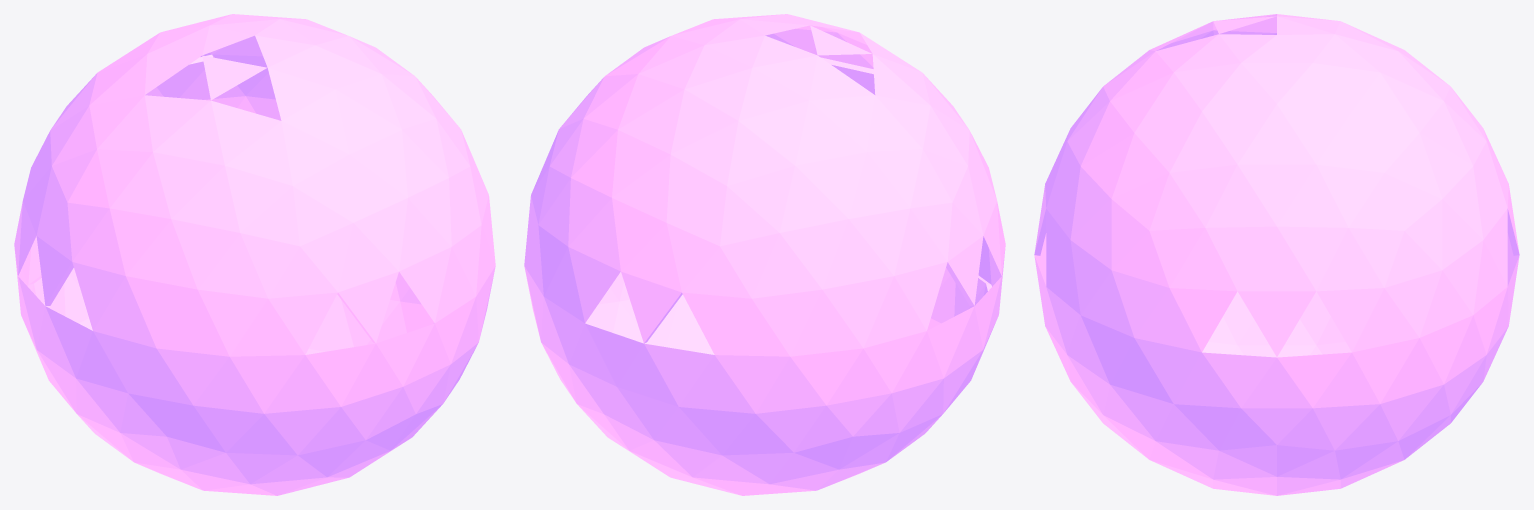
Rendered from Undead_Bannschild.fbx.
3 renders of one model, left to right at view 1: azimuth 30°, elevation 25°; view 2: azimuth 150°, elevation 25°; view 3: azimuth 270°, elevation 25°, orthographic.
Visible parts, largest first — view 1: Ward_Shell, Ward_Shard_4, Ward_Shard_7, Ward_Shard_1, Ward_Shard_3, Ward_Shard_6, Ward_Shard_5; view 2: Ward_Shell, Ward_Shard_3, Ward_Shard_5, Ward_Shard_1, Ward_Shard_4, Ward_Shard_8, Ward_Shard_7; view 3: Ward_Shell, Ward_Shard_2, Ward_Shard_6, Ward_Shard_8, Ward_Shard_3, Ward_Shard_4.
Part boxes in pixels (bbox=[...]): Ward_Shell: bbox=[14, 14, 495, 495]; Ward_Shard_4: bbox=[301, 198, 407, 343]; Ward_Shard_7: bbox=[128, 393, 263, 469]; Ward_Shard_1: bbox=[36, 166, 109, 305]; Ward_Shard_3: bbox=[145, 54, 213, 97]; Ward_Shard_6: bbox=[443, 342, 478, 403]; Ward_Shard_5: bbox=[28, 275, 65, 316]; Ward_Shell: bbox=[524, 14, 1005, 495]; Ward_Shard_3: bbox=[612, 198, 719, 343]; Ward_Shard_5: bbox=[756, 393, 891, 469]; Ward_Shard_1: bbox=[910, 166, 983, 305]; Ward_Shard_4: bbox=[821, 57, 875, 94]; Ward_Shard_8: bbox=[541, 342, 576, 403]; Ward_Shard_7: bbox=[954, 275, 991, 316]; Ward_Shell: bbox=[1034, 14, 1519, 495]; Ward_Shard_2: bbox=[1205, 226, 1348, 356]; Ward_Shard_6: bbox=[1067, 355, 1173, 459]; Ward_Shard_8: bbox=[1380, 355, 1486, 459]; Ward_Shard_3: bbox=[1473, 133, 1519, 255]; Ward_Shard_4: bbox=[1034, 129, 1080, 255].
Bounding box in the file's own units: 2 × 1.89 × 2.
